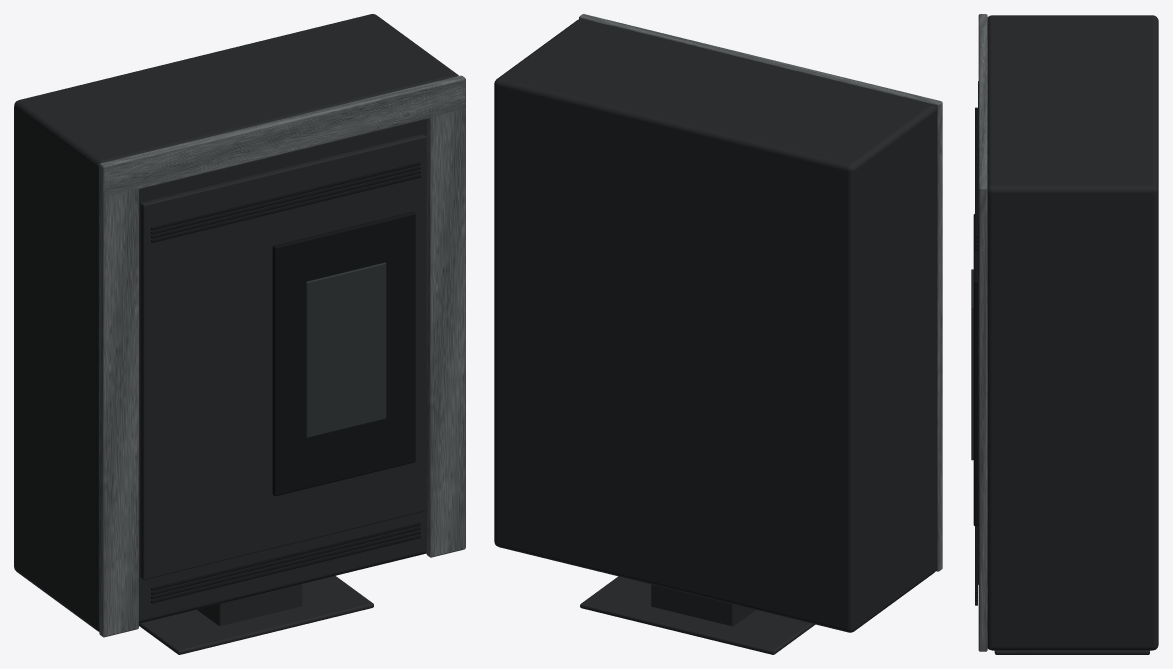
File: nordica-souvenir-plus-petra-50-pietra.glb
3 views of the same model, side by side, from view 1: azimuth 30°, elevation 25°; view 2: azimuth 150°, elevation 25°; view 3: azimuth 270°, elevation 25° (orthographic).
Visible parts, largest first — view 1: Corpo.001, Frontale.001, Cornice sportello.001, Montante.002, Montante.003, Cornice superiore.001, Vetro sportello.001, Base, Piedistallo, Griglia inferiore.005, Griglia inferiore.006, Griglia inferiore.004 (+5 smaller); view 2: Corpo.001, Base, Montante.002, Piedistallo, Cornice superiore.001; view 3: Corpo.001, Montante.003, Cornice superiore.001, Cornice sportello.001, Base, Vetro sportello.001, Frontale.001, Griglia superiore.004.
Boxes of the visible parts, <box> form: Corpo.001: <box>14,14,458,631</box>; Frontale.001: <box>140,134,426,579</box>; Cornice sportello.001: <box>272,211,415,496</box>; Montante.002: <box>99,155,138,637</box>; Montante.003: <box>426,75,465,557</box>; Cornice superiore.001: <box>99,79,465,196</box>; Vetro sportello.001: <box>306,262,386,437</box>; Base: <box>139,576,373,654</box>; Piedistallo: <box>197,584,302,625</box>; Griglia inferiore.005: <box>151,531,420,599</box>; Griglia inferiore.006: <box>151,527,420,594</box>; Griglia inferiore.004: <box>151,535,420,603</box>; Corpo.001: <box>494,18,937,632</box>; Base: <box>580,576,815,654</box>; Montante.002: <box>904,93,942,571</box>; Piedistallo: <box>651,584,755,626</box>; Cornice superiore.001: <box>579,18,942,134</box>; Corpo.001: <box>987,15,1158,650</box>; Montante.003: <box>978,171,987,651</box>; Cornice superiore.001: <box>978,30,987,217</box>; Cornice sportello.001: <box>973,214,977,526</box>; Base: <box>994,650,1149,654</box>; Vetro sportello.001: <box>971,269,973,460</box>; Frontale.001: <box>978,81,978,584</box>; Griglia superiore.004: <box>975,107,977,238</box>.
Bounding box in the file's own units: 0.821 × 1.11 × 0.3725.
4 materials, 1 textured.
